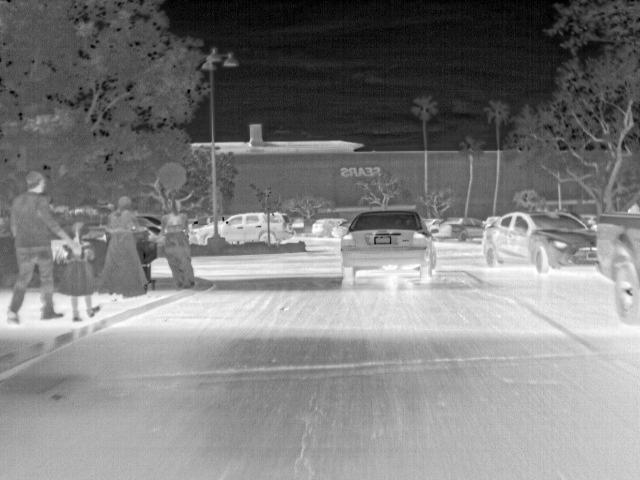car: (341, 208, 436, 287), (483, 210, 597, 273), (594, 209, 640, 325), (222, 210, 264, 243), (434, 215, 484, 241), (271, 212, 292, 244), (191, 222, 215, 244), (313, 218, 331, 236), (138, 213, 159, 227), (145, 225, 163, 239), (333, 220, 348, 234), (422, 216, 436, 228)
person: (8, 170, 63, 326), (105, 195, 142, 297), (62, 222, 93, 322), (164, 198, 189, 290)
